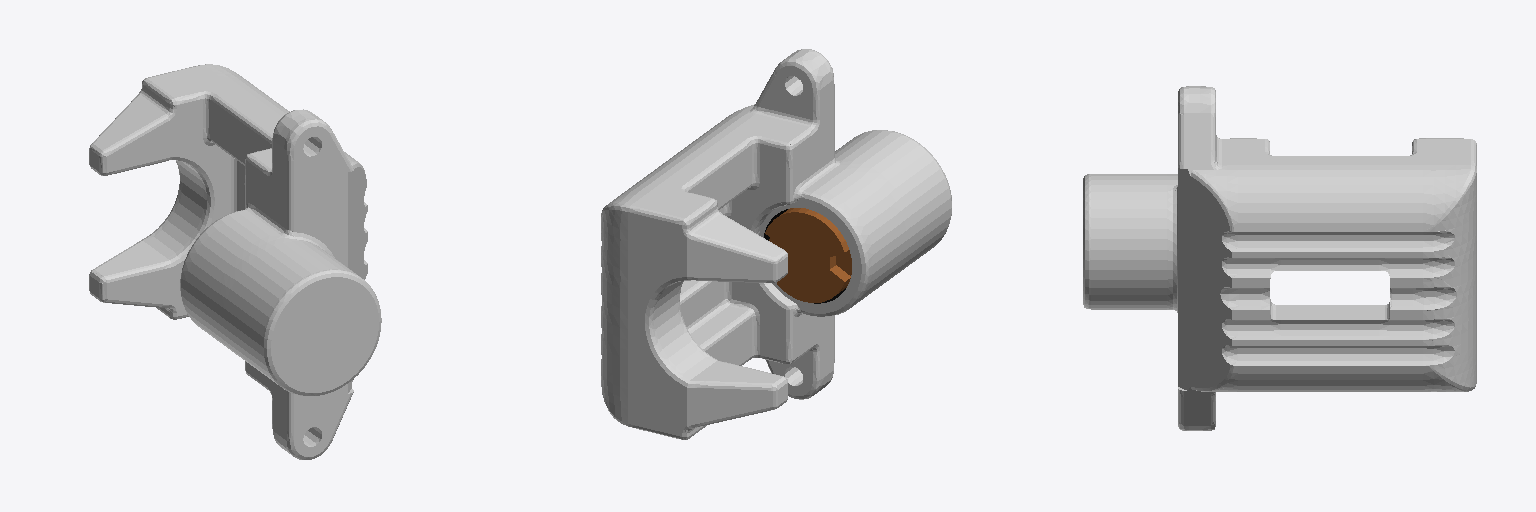
The model's file is caliper.obj.
3 renders of one model, left to right at view 1: azimuth 30°, elevation 25°; view 2: azimuth 150°, elevation 25°; view 3: azimuth 270°, elevation 25°, orthographic.
Visible parts, largest first — view 1: 121, 304; view 2: 121, 304, 291, 297, 49; view 3: 121, 304.
Part boxes in pixels (x1,y1,x2,y2): 121: (102, 64, 381, 459); 304: (89, 64, 359, 440); 121: (620, 49, 951, 439); 304: (601, 71, 835, 439); 291: (777, 210, 846, 302); 297: (765, 208, 851, 296); 49: (833, 216, 861, 304); 121: (1083, 86, 1476, 430); 304: (1177, 113, 1475, 423).
Size of the model in its own units: 75 by 138 by 145.